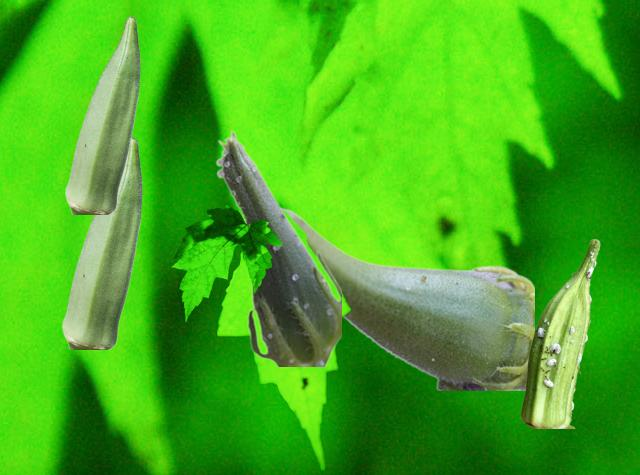okra: (281, 205, 533, 389), (215, 130, 340, 365), (62, 137, 141, 348), (521, 239, 599, 427), (65, 16, 139, 213)
